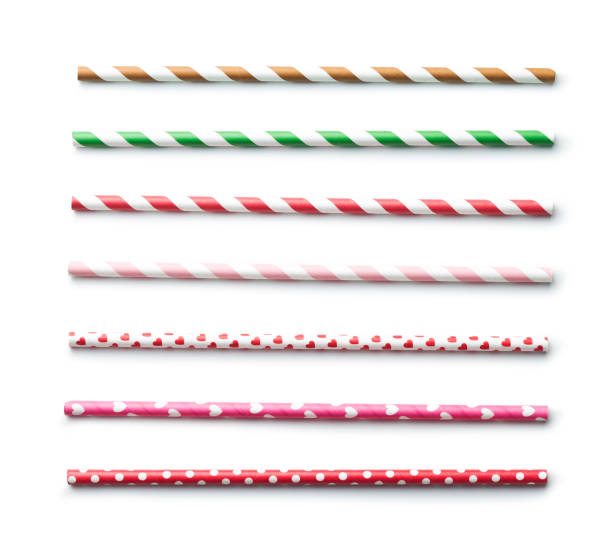Drinking Straw: (65, 252, 560, 288), (65, 324, 555, 359), (68, 188, 559, 221), (61, 397, 555, 428), (68, 125, 561, 153), (75, 61, 559, 89), (64, 465, 553, 492)
